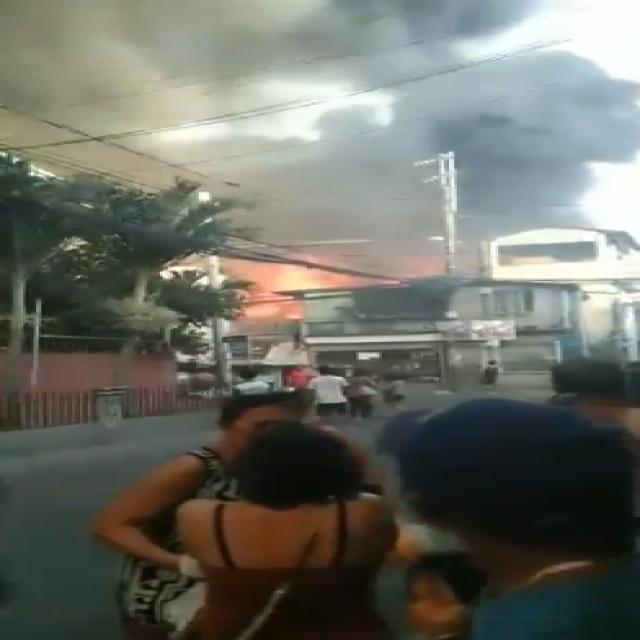Fire: (226, 258, 358, 317)
Smoke: (201, 48, 640, 242), (0, 0, 501, 162)
